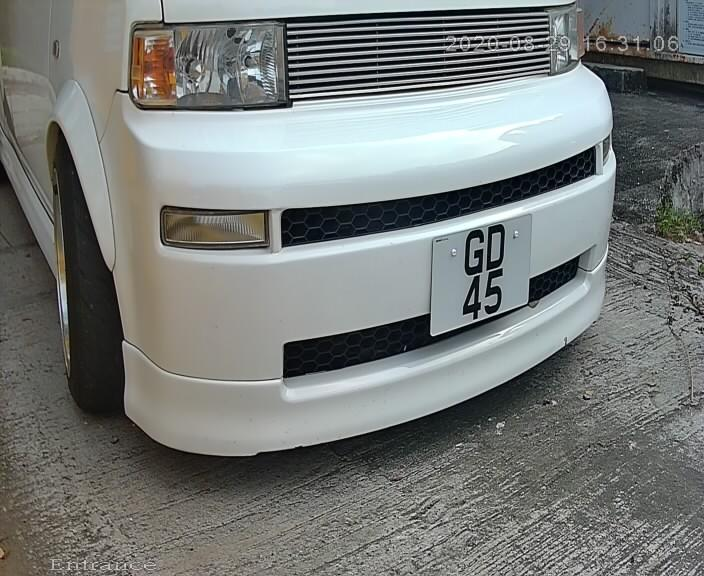License Plate: (400, 187, 562, 359)
